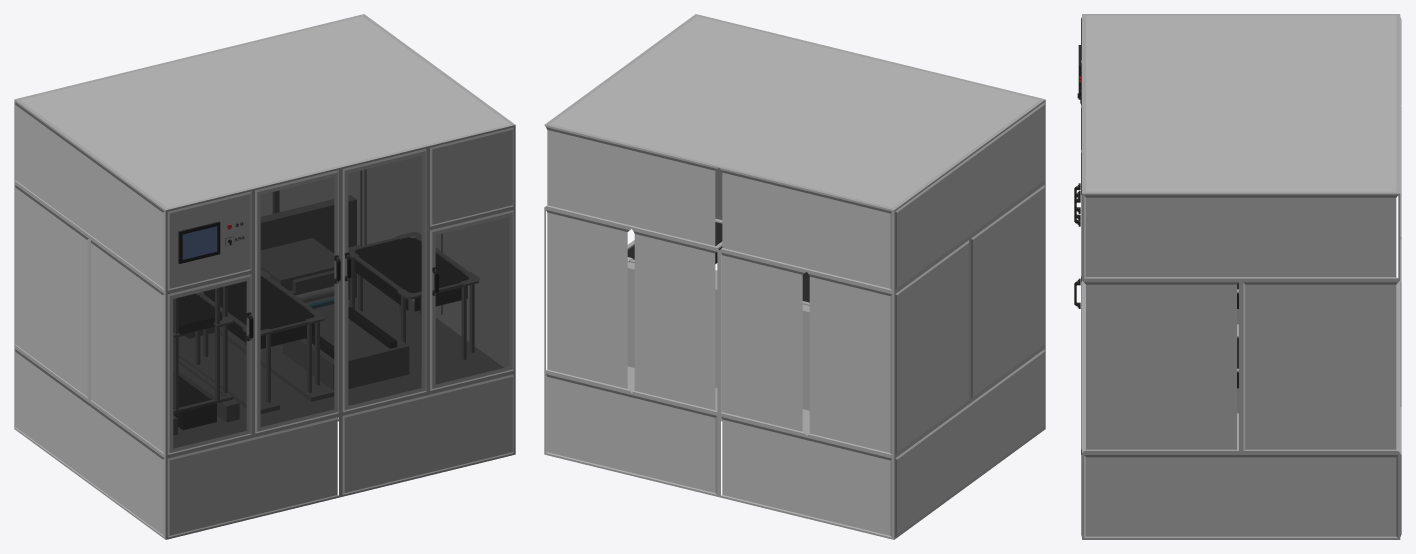
File: aaa.gltf
3 views of the same model, side by side, from view 1: azimuth 30°, elevation 25°; view 2: azimuth 150°, elevation 25°; view 3: azimuth 270°, elevation 25° (orthographic). The views are drawn at different scales.
Visible parts, largest first — view 1: 3______, glass; view 2: 3______; view 3: 3______.
Part boxes in pixels (left/top/right/bottom): 3______: left=14, top=14, right=515, bottom=539; glass: left=173, top=156, right=509, bottom=448; 3______: left=544, top=14, right=1045, bottom=539; 3______: left=1074, top=14, right=1401, bottom=539.
Bounding box in the file's own units: 201 × 180 × 154.
Materials: 2 (1 with a texture image).
